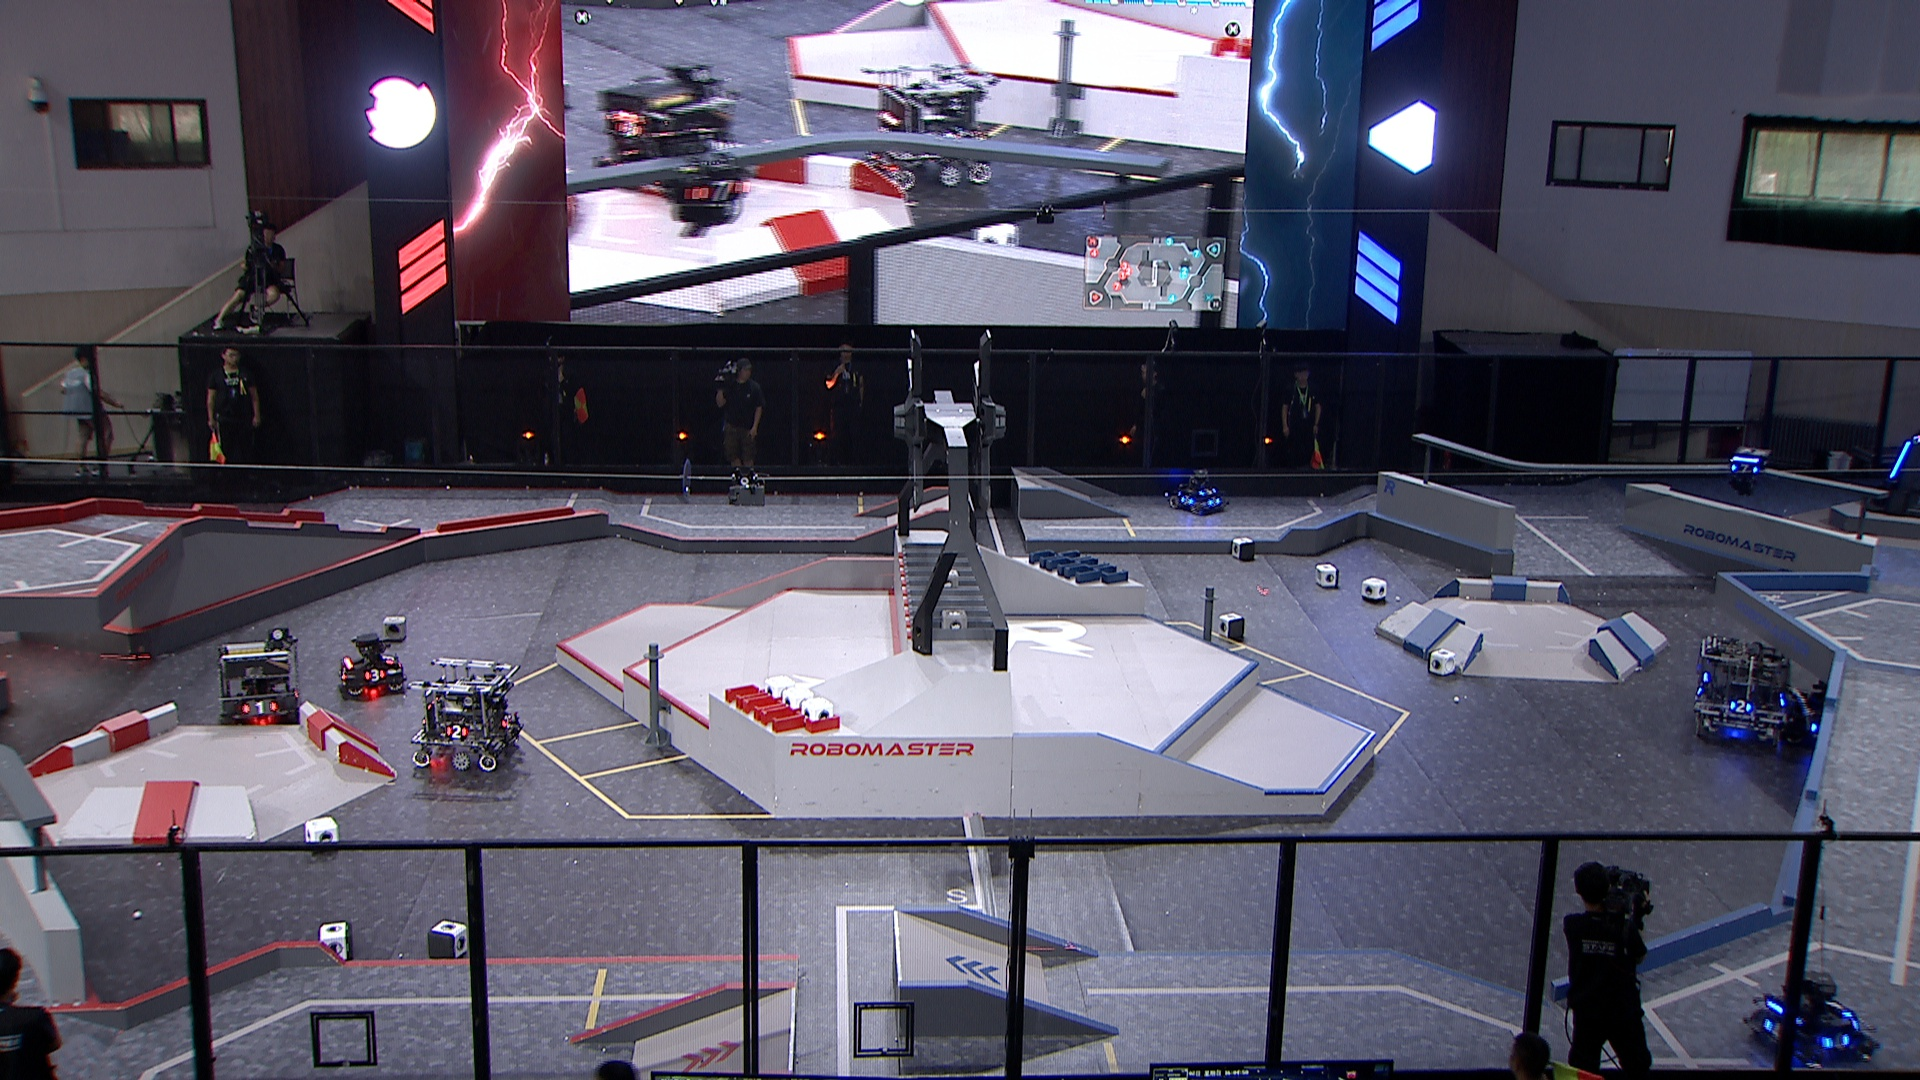armor: (1888, 438, 1911, 477), (1825, 994, 1851, 1022), (243, 699, 280, 717), (1822, 1033, 1851, 1054), (1760, 1019, 1783, 1039), (444, 725, 469, 741), (1730, 699, 1753, 716), (363, 669, 386, 683), (1731, 463, 1760, 473), (1803, 717, 1818, 736), (498, 713, 514, 731), (381, 651, 398, 666), (1207, 495, 1222, 509), (1199, 488, 1218, 498), (1178, 495, 1195, 506), (338, 666, 348, 683)
base: (1866, 433, 1920, 522)
car: (406, 655, 526, 775), (1746, 969, 1880, 1076), (1692, 632, 1793, 752), (219, 626, 305, 728), (1797, 666, 1884, 752), (338, 632, 409, 694), (1166, 467, 1233, 517)
ignore: (593, 55, 741, 194), (864, 59, 994, 190), (646, 120, 752, 239)
watcher: (1727, 448, 1774, 496)
